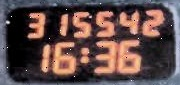1: (39, 43, 49, 72), (58, 12, 67, 36)
2: (141, 9, 161, 34)
3: (92, 39, 115, 72), (25, 11, 44, 38)
4: (119, 11, 138, 34)
5: (70, 10, 91, 37), (95, 10, 113, 35)
6: (115, 39, 140, 72), (51, 40, 75, 74)
X: (79, 47, 89, 63)
